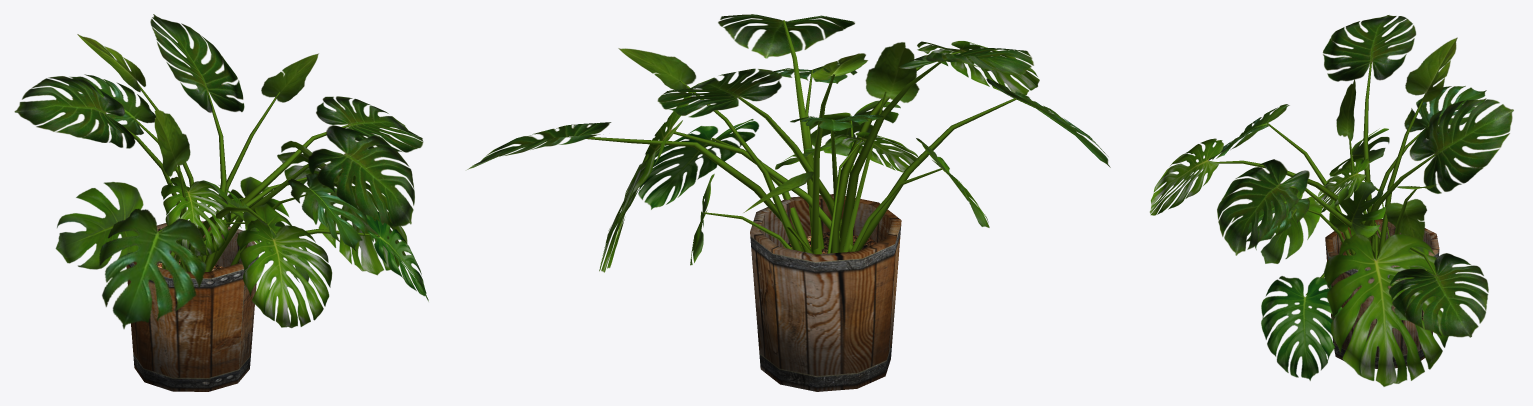
3 renders of one model, left to right at view 1: azimuth 30°, elevation 25°; view 2: azimuth 150°, elevation 25°; view 3: azimuth 270°, elevation 25°, orthographic. The views are drawn at different scales.
Visible parts, largest first — view 1: polySurface828; view 2: polySurface828; view 3: polySurface828.
Boxes of the visible parts, <box> form: polySurface828: <box>14,14,428,391</box>; polySurface828: <box>467,14,1110,391</box>; polySurface828: <box>1150,15,1513,386</box>.
Bounding box in the file's own units: 198 × 137 × 162.
1 material, 1 textured.
